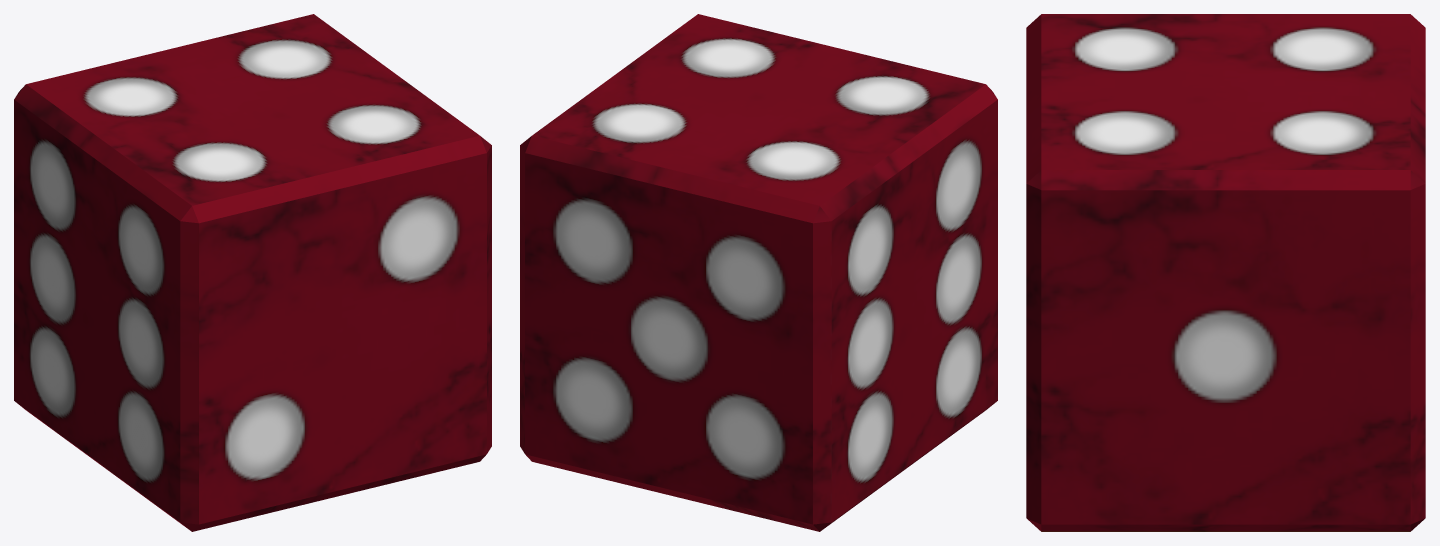
The model's file is dice.glb.
The picture shows the model from 3 angles, left to right: view 1: azimuth 30°, elevation 25°; view 2: azimuth 150°, elevation 25°; view 3: azimuth 270°, elevation 25°; orthographic projection. The views are drawn at different scales.
Visible parts, largest first — view 1: Cube; view 2: Cube; view 3: Cube.
Part boxes in pixels (x1,y1,x2,y2): Cube: [14, 14, 491, 531]; Cube: [520, 14, 997, 531]; Cube: [1026, 14, 1425, 531].
Bounding box in the file's own units: 1 × 1 × 1.
1 material, 1 textured.
